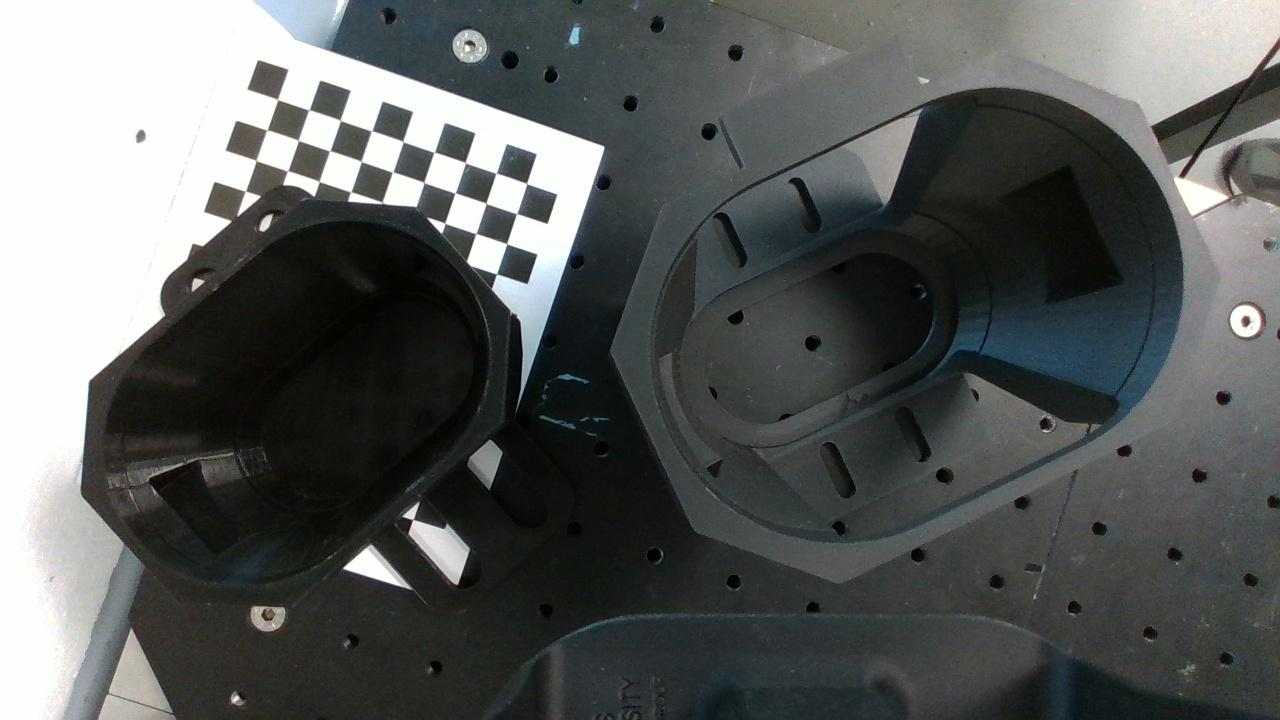big_interface: (609, 51, 1220, 585)
small_interface: (79, 199, 513, 608)
